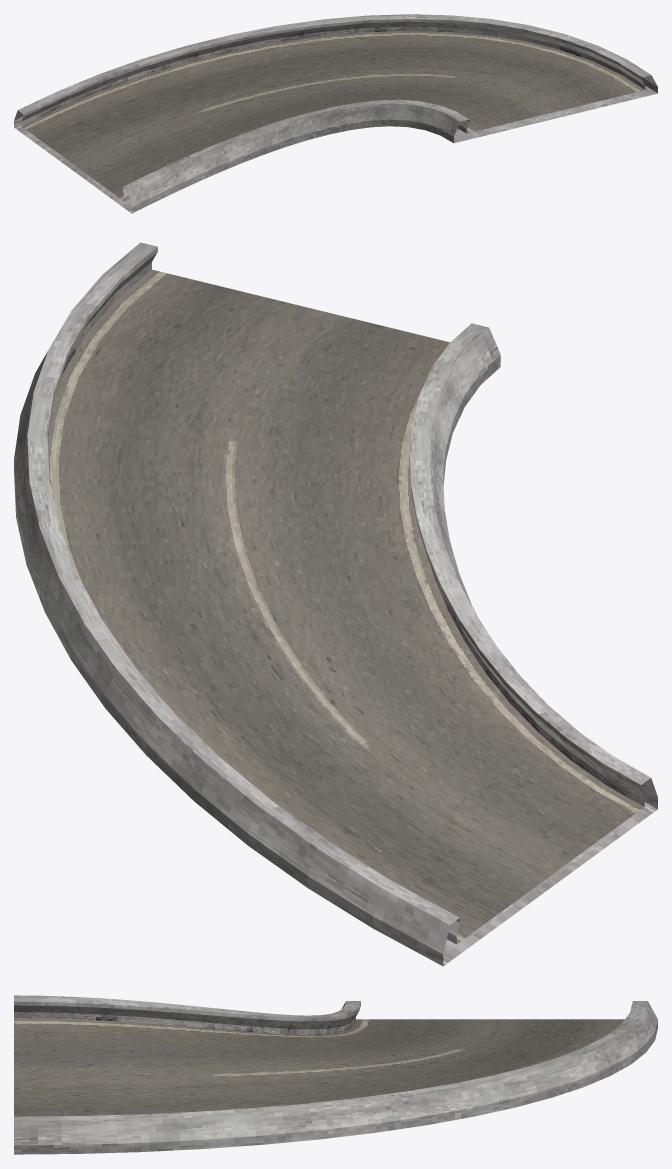
The model's file is road-Turn-Flat-BiSlopeDown-Down2-Left-Size2.glb.
The picture shows the model from 3 angles, top to bottom: view 1: azimuth 30°, elevation 25°; view 2: azimuth 150°, elevation 25°; view 3: azimuth 270°, elevation 25°; orthographic projection. The views are drawn at different scales.
Visible parts, largest first — view 1: road-Turn-Flat-BiSlopeDown-Down2-Left-Size2; view 2: road-Turn-Flat-BiSlopeDown-Down2-Left-Size2; view 3: road-Turn-Flat-BiSlopeDown-Down2-Left-Size2.
Boxes of the visible parts, left/top/right/bottom form: road-Turn-Flat-BiSlopeDown-Down2-Left-Size2: left=14, top=14, right=657, bottom=213; road-Turn-Flat-BiSlopeDown-Down2-Left-Size2: left=14, top=242, right=657, bottom=966; road-Turn-Flat-BiSlopeDown-Down2-Left-Size2: left=14, top=995, right=657, bottom=1154.
Bounding box in the file's own units: 2 × 0.5938 × 2.
Materials: 2 (2 with a texture image).
